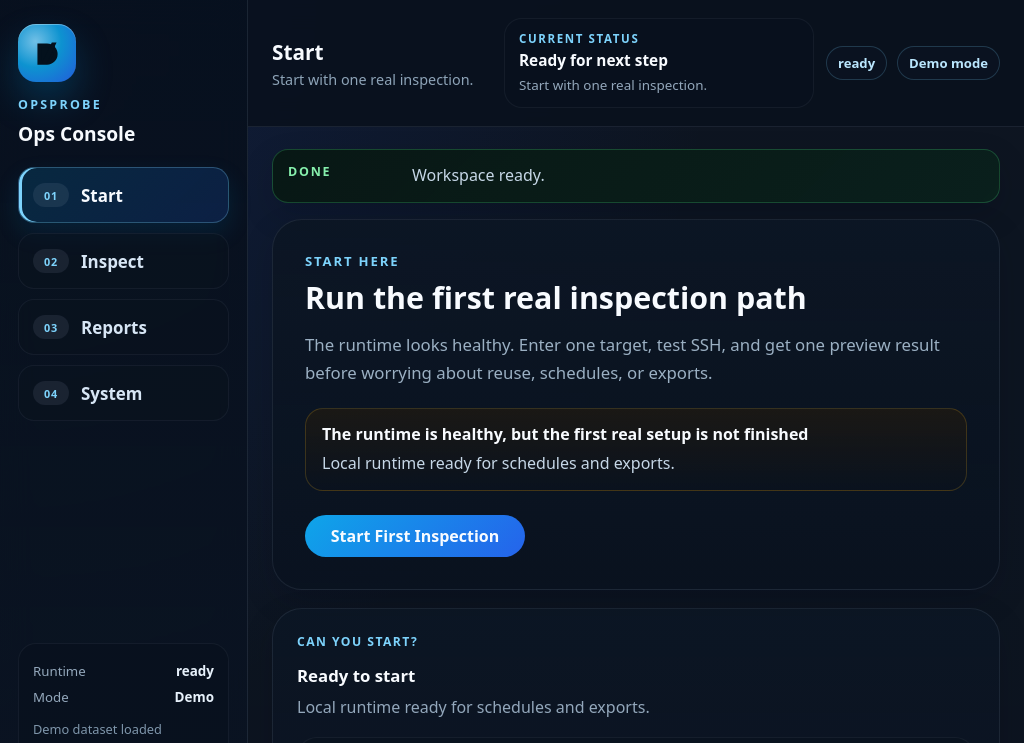
Test: desktop app shell › keeps inspect workflow focused by showing one section at a time
Click the button "02 Inspect" at (124, 261), box [18, 233, 229, 289]
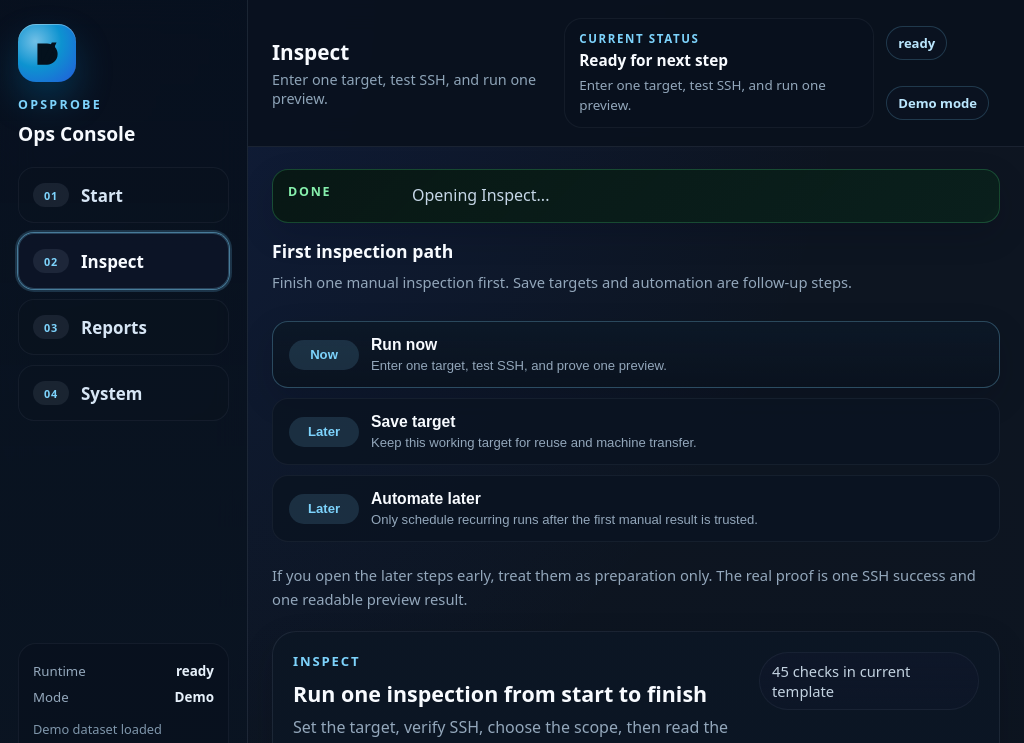
Expected: the button "Run now" is shown, [272, 321, 1000, 388]
Expected: the heading "Run one inspection from start to finish" is shown, [293, 682, 743, 706]
Expected: the text "Schedules" is gone
Click the button "Save target" at (324, 432), box [272, 398, 1000, 465]
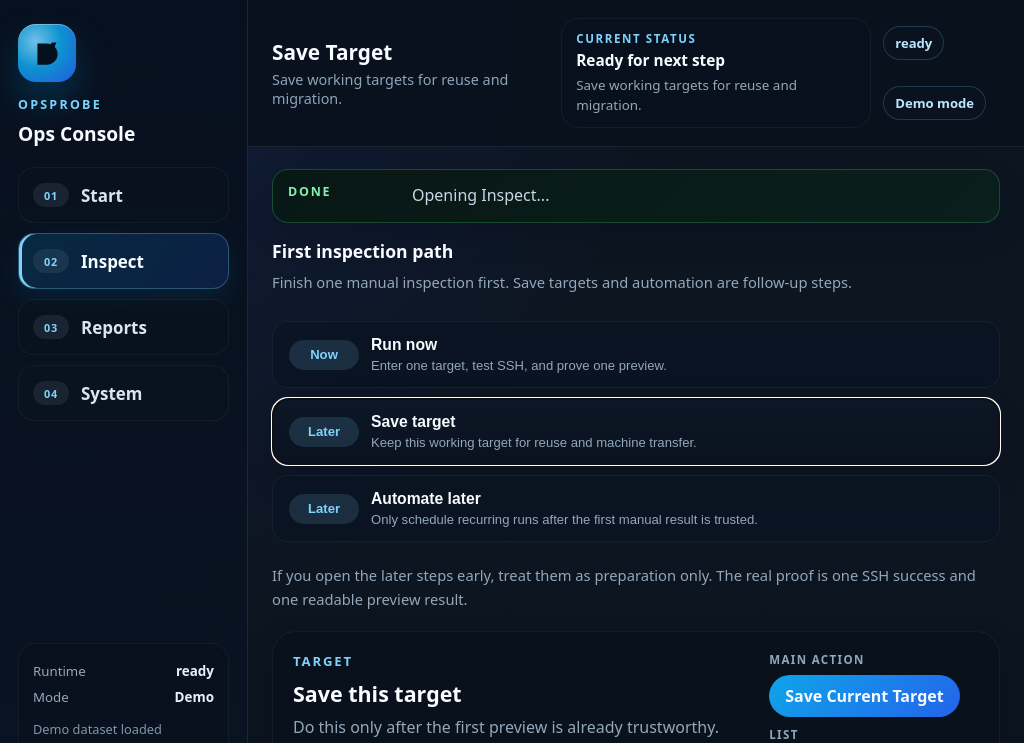
Expected: the heading "Save this target" is shown, [293, 679, 462, 708]
